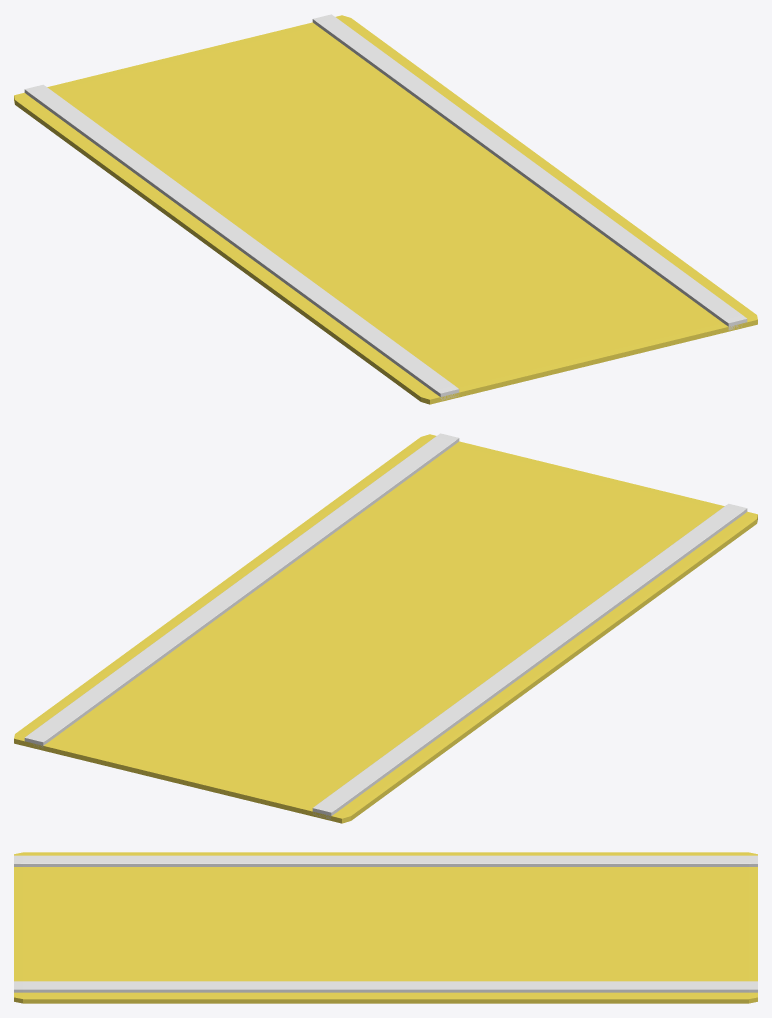
The model's file is DockLaneMarker.glb.
3 views of the same model, one above another, from view 1: azimuth 30°, elevation 25°; view 2: azimuth 150°, elevation 25°; view 3: azimuth 270°, elevation 25° (orthographic). The views are drawn at different scales.
Visible parts, largest first — view 1: Lane, Stripe_-0.6, Stripe_0.6; view 2: Lane, Stripe_-0.6, Stripe_0.6; view 3: Lane, Stripe_-0.6, Stripe_0.6.
Boxes of the visible parts, x1,y1,x2,y2 form: Lane: [14, 15, 757, 404]; Stripe_-0.6: [24, 84, 459, 400]; Stripe_0.6: [312, 14, 747, 330]; Lane: [14, 434, 757, 823]; Stripe_-0.6: [312, 503, 747, 819]; Stripe_0.6: [24, 433, 459, 748]; Lane: [14, 852, 757, 1003]; Stripe_-0.6: [14, 855, 757, 866]; Stripe_0.6: [14, 981, 757, 992].
Bounding box in the file's own units: 1.4 × 0.034 × 3.
